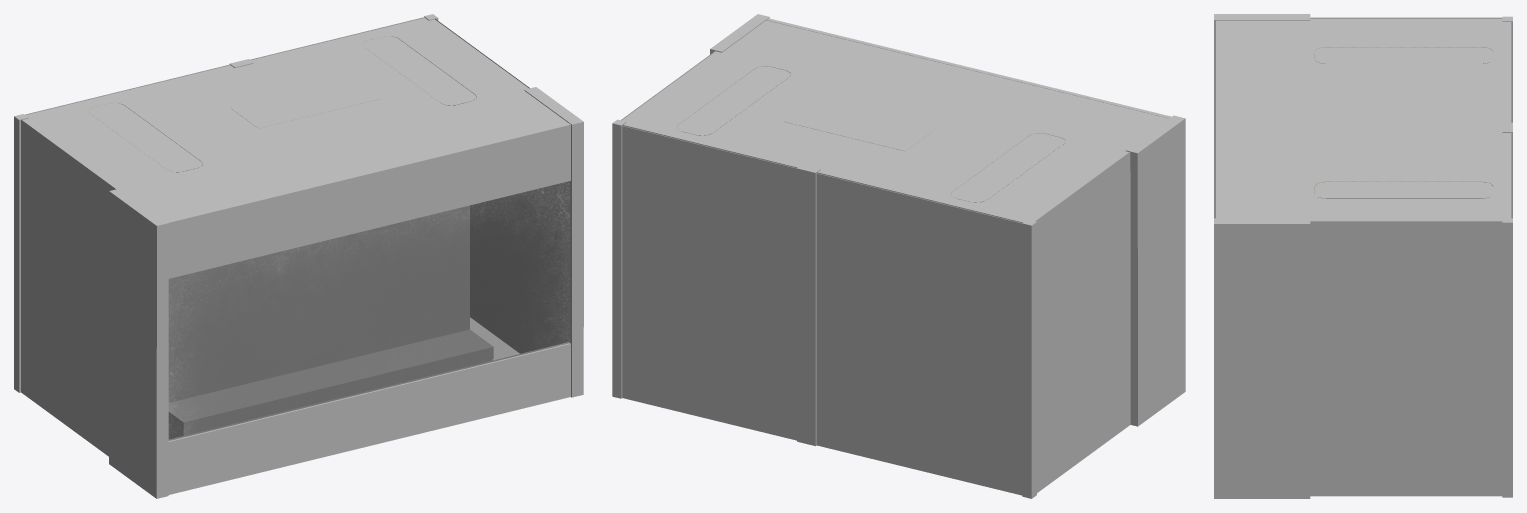
File: shop_22a.fbx
3 renders of one model, left to right at view 1: azimuth 30°, elevation 25°; view 2: azimuth 150°, elevation 25°; view 3: azimuth 270°, elevation 25°, orthographic.
Parts seen in each view (by area): view 1: shop_22a; view 2: shop_22a; view 3: shop_22a.
Boxes of the visible parts, x1,y1,x2,y2 form: shop_22a: (14,14,583,498); shop_22a: (612,14,1185,498); shop_22a: (1214,14,1512,498).
Size of the model in its own units: 5.25 by 3.2 by 3.15.
